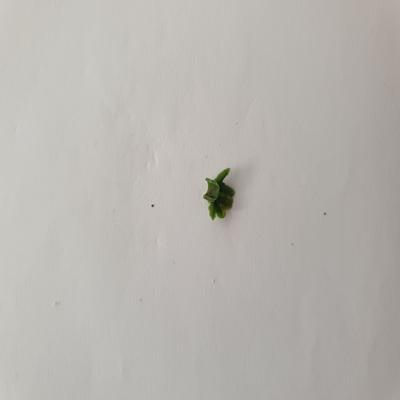plastic: (195, 164, 241, 222)
